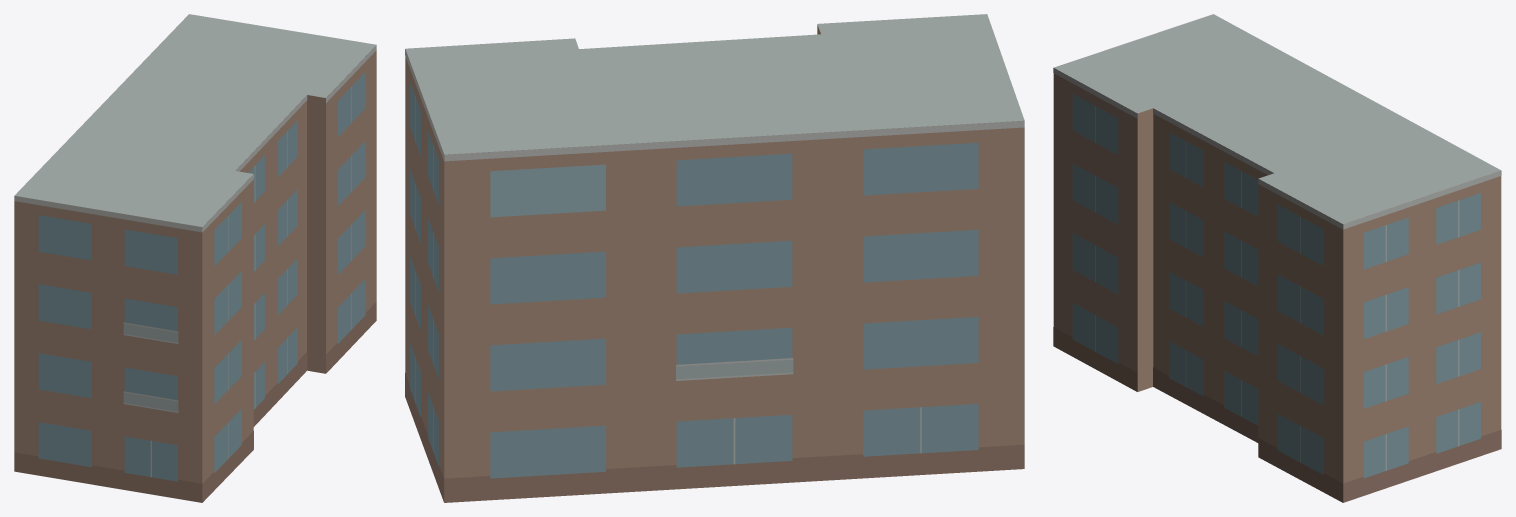
The model's file is survey-upis-32977110.glb.
3 renders of one model, left to right at view 1: azimuth 30°, elevation 25°; view 2: azimuth 150°, elevation 25°; view 3: azimuth 270°, elevation 25°, orthographic. The views are drawn at different scales.
Visible parts, largest first — view 1: survey-upis-32977110.tmp; view 2: survey-upis-32977110.tmp; view 3: survey-upis-32977110.tmp.
Part boxes in pixels (x1,y1,x2,y2): survey-upis-32977110.tmp: (14, 14, 376, 502); survey-upis-32977110.tmp: (405, 14, 1024, 502); survey-upis-32977110.tmp: (1053, 14, 1501, 502).
Size of the model in its own units: 20.4 by 12.6 by 18.37.
